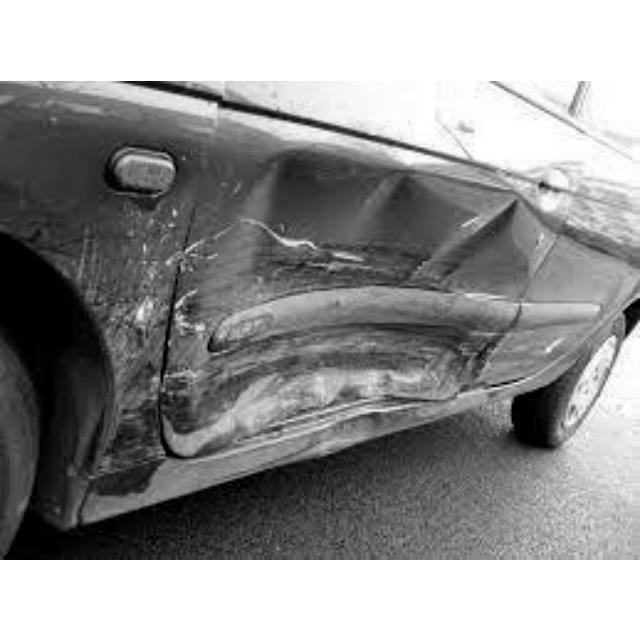doorouter-dent: (181, 103, 504, 436)
fender-dent: (0, 81, 170, 464)
